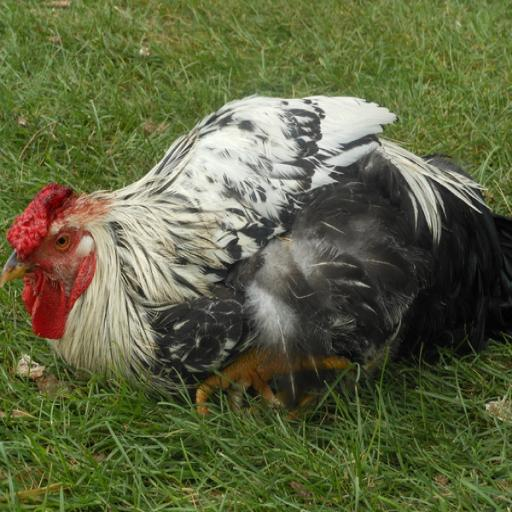disease: (1, 179, 83, 267)
